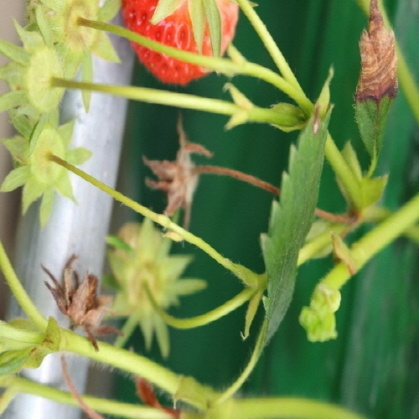Gray_Mold: (67, 67, 381, 328), (198, 166, 275, 303)
